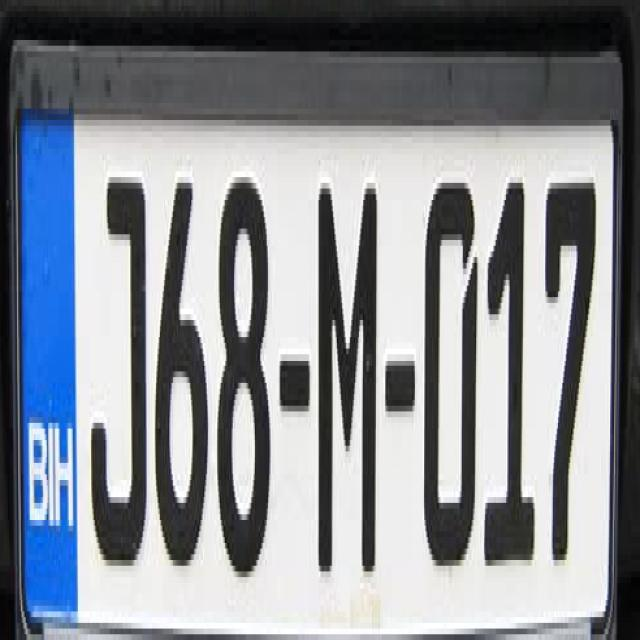Autre: (16, 112, 616, 607)
